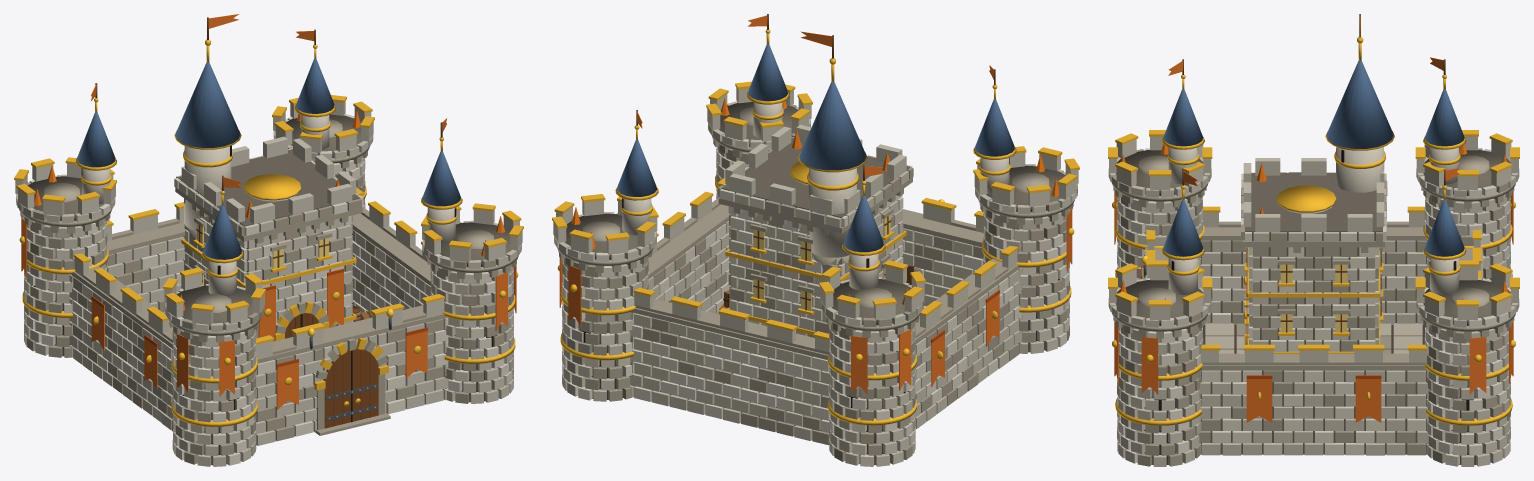
File: chateau.glb
3 renders of one model, left to right at view 1: azimuth 30°, elevation 25°; view 2: azimuth 150°, elevation 25°; view 3: azimuth 270°, elevation 25°, orthographic. The views are drawn at different scales.
Parts seen in each view (by area): view 1: pierreT, pierreTF, pierreTC, orT, ardoise, joint, banniere, porte, boisF, flamme, ferF; view 2: pierreT, pierreTF, pierreTC, orT, ardoise, joint, banniere, vitre, flamme, boisF; view 3: pierreT, pierreTF, pierreTC, orT, joint, ardoise, banniere, dalle, vitre, boisF, flamme.
Part boxes in pixels (x1=…): pierreT: x1=15, y1=101, x2=522, y2=466; pierreTF: x1=16, y1=119, x2=518, y2=464; pierreTC: x1=24, y1=114, x2=513, y2=465; orT: x1=14, y1=39, x2=523, y2=426; ardoise: x1=77, y1=59, x2=460, y2=259; joint: x1=27, y1=114, x2=511, y2=465; banniere: x1=21, y1=14, x2=516, y2=409; porte: x1=285, y1=313, x2=378, y2=428; boisF: x1=95, y1=17, x2=442, y2=426; flamme: x1=34, y1=111, x2=504, y2=310; ferF: x1=309, y1=310, x2=391, y2=420; pierreT: x1=553, y1=88, x2=1078, y2=466; pierreTF: x1=557, y1=104, x2=1077, y2=461; pierreTC: x1=554, y1=126, x2=1077, y2=466; orT: x1=552, y1=29, x2=1079, y2=425; ardoise: x1=617, y1=44, x2=1014, y2=252; joint: x1=564, y1=102, x2=1065, y2=464; banniere: x1=559, y1=15, x2=1072, y2=393; vitre: x1=753, y1=215, x2=890, y2=311; flamme: x1=571, y1=98, x2=1058, y2=305; boisF: x1=636, y1=14, x2=995, y2=310; pierreT: x1=1108, y1=136, x2=1519, y2=466; pierreTF: x1=1108, y1=148, x2=1515, y2=466; pierreTC: x1=1117, y1=148, x2=1519, y2=466; orT: x1=1108, y1=37, x2=1519, y2=425; joint: x1=1115, y1=150, x2=1512, y2=464; ardoise: x1=1163, y1=60, x2=1464, y2=256; banniere: x1=1114, y1=16, x2=1513, y2=422; dalle: x1=1205, y1=323, x2=1422, y2=353; vitre: x1=1247, y1=247, x2=1380, y2=332; boisF: x1=1182, y1=14, x2=1445, y2=332; flamme: x1=1119, y1=144, x2=1508, y2=299.
Bounding box in the file's own units: 8.3 × 7.8 × 8.3.
